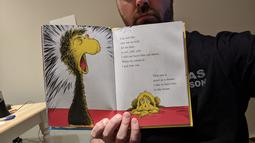text block: (116, 33, 159, 72), (149, 71, 178, 94)
